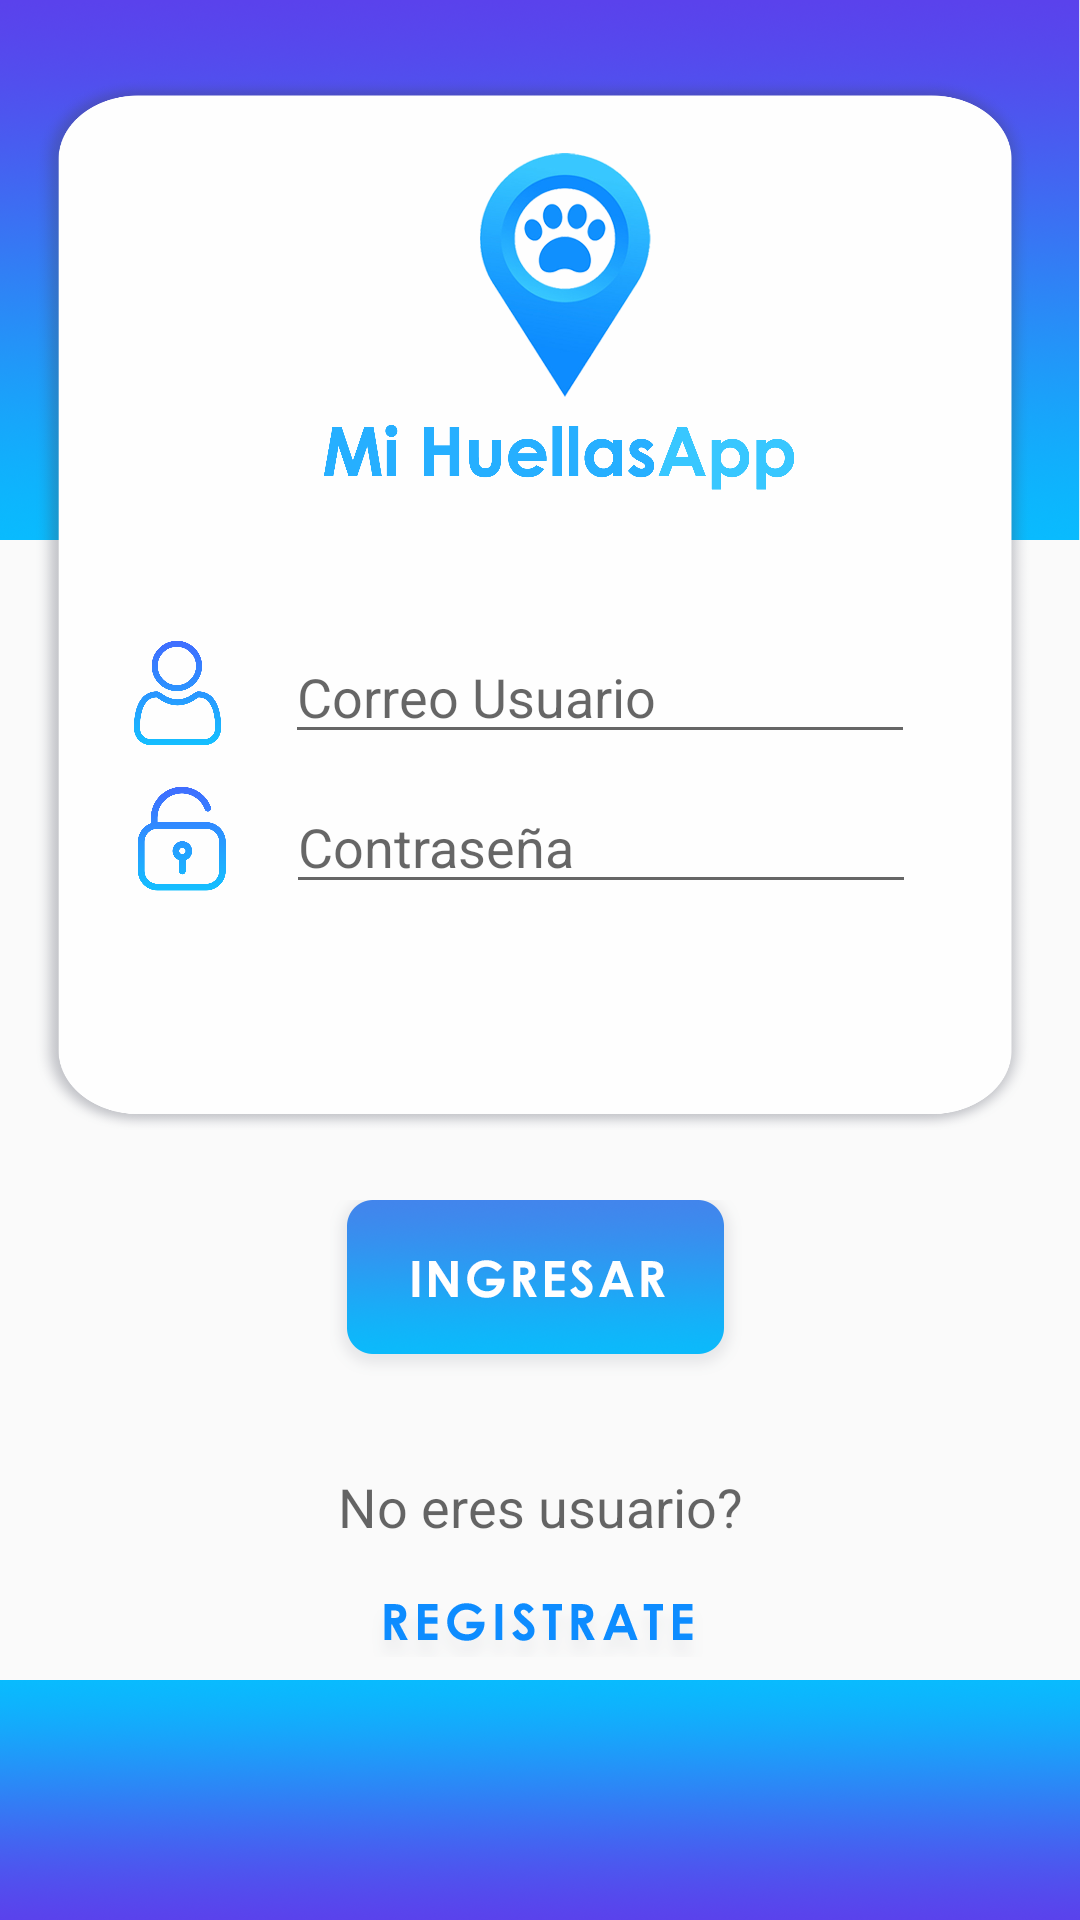

Named icons in this screenshot (1080px x 1920px) and their bounding boxes, region(x1, y1, x2, y2):
contrasena: region(138, 787, 226, 891)
